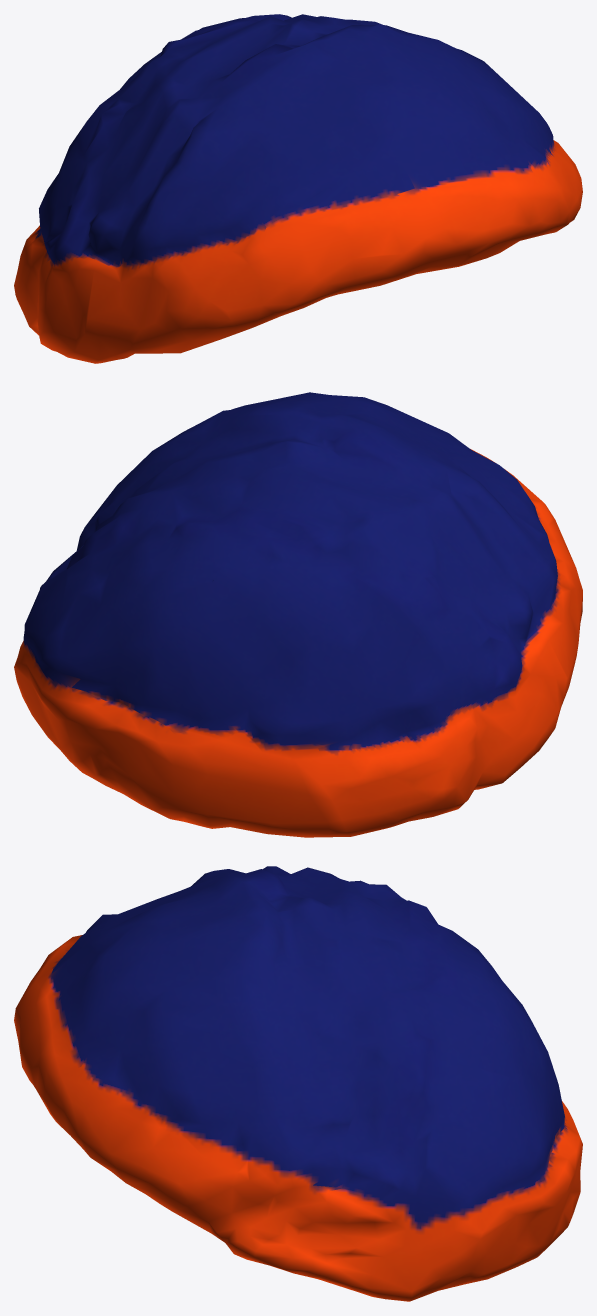
The model's file is knit chicago.glb.
3 views of the same model, one above another, from view 1: azimuth 30°, elevation 25°; view 2: azimuth 150°, elevation 25°; view 3: azimuth 270°, elevation 25° (orthographic). The views are drawn at different scales.
Visible parts, largest first — view 1: hat_knit_chicago.001; view 2: hat_knit_chicago.001; view 3: hat_knit_chicago.001.
Part boxes in pixels (x1,y1,x2,y2): hat_knit_chicago.001: [14, 14, 582, 363]; hat_knit_chicago.001: [14, 392, 582, 837]; hat_knit_chicago.001: [14, 866, 582, 1301].
Bounding box in the file's own units: 0.3692 × 0.2295 × 0.3547.
Materials: 1 (1 with a texture image).
